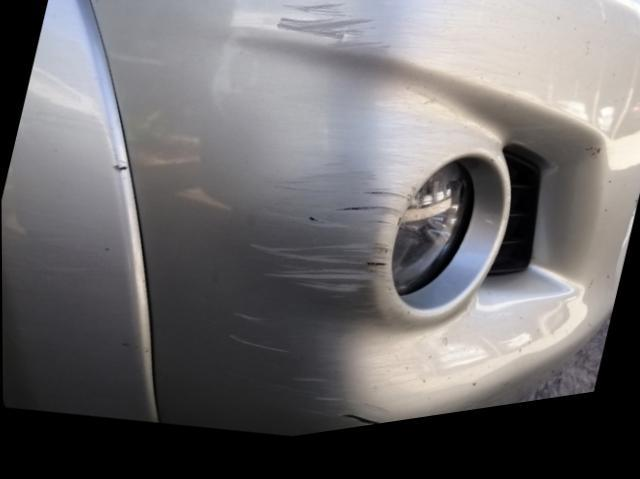scratch: (236, 0, 539, 439)
